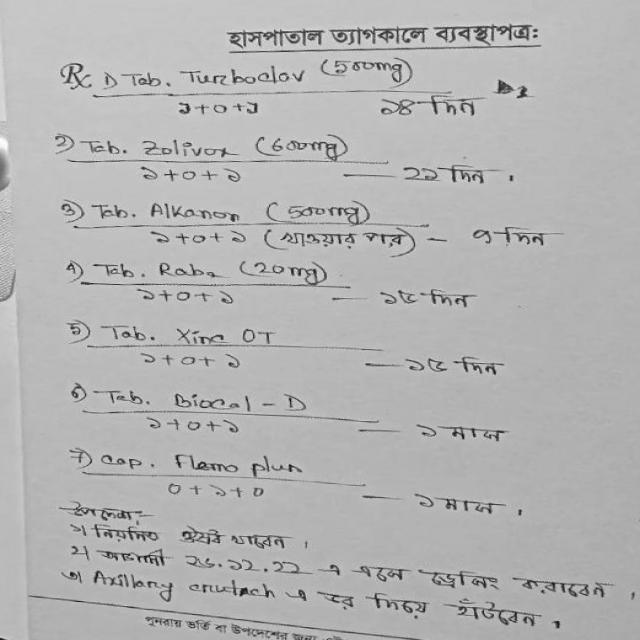medicine: (175, 56, 313, 91), (173, 446, 315, 478), (164, 388, 315, 414), (137, 190, 249, 224), (135, 131, 236, 162), (147, 248, 228, 283), (162, 324, 234, 348)
